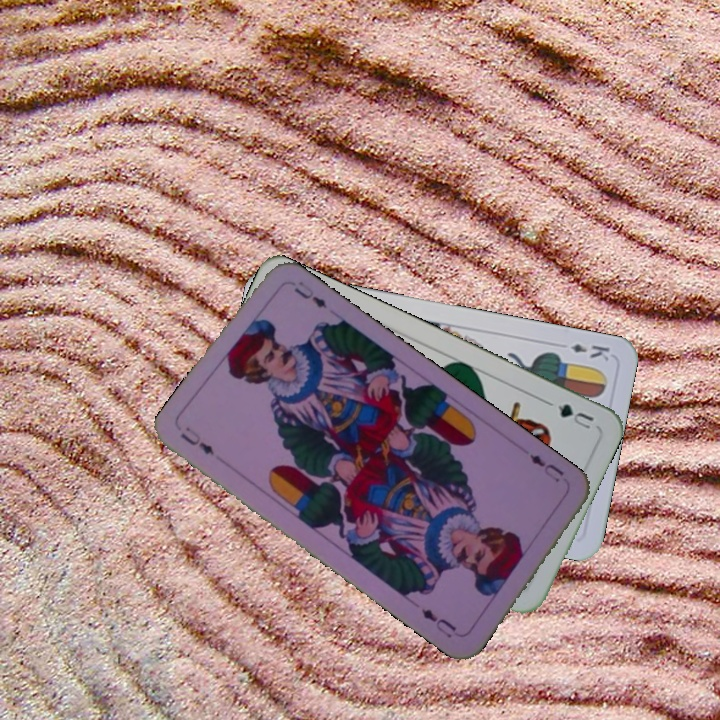EK: (567, 339, 612, 364)
EU: (176, 422, 217, 458), (525, 450, 567, 485)
GU: (553, 399, 596, 432)
